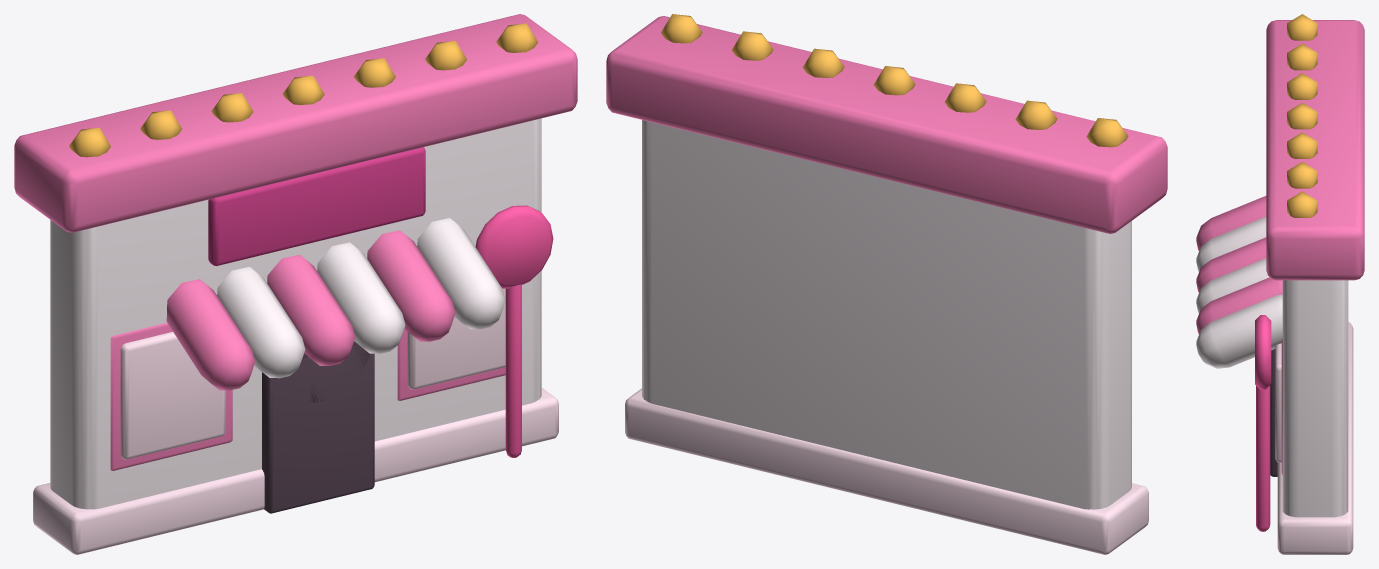
Rendered from facade_candyarmory.obj.
3 renders of one model, left to right at view 1: azimuth 30°, elevation 25°; view 2: azimuth 150°, elevation 25°; view 3: azimuth 270°, elevation 25°, orthographic. The views are drawn at different scales.
Parts seen in each view (by area): view 1: Wall, Roof, AwningA, Trim, AwningB, Door, Windows, Sign, Topper, TopperB, Frames; view 2: Wall, Roof, Trim, TopperB; view 3: Roof, Wall, AwningB, AwningA, TopperB, Trim, Topper, Windows, Door, Frames.
Boxes of the visible parts, x1,y1,x2,y2 form: Wall: [50, 118, 541, 509]; Roof: [14, 14, 577, 232]; AwningA: [166, 230, 455, 390]; Trim: [33, 388, 558, 554]; AwningB: [217, 218, 505, 378]; Door: [262, 341, 374, 513]; Windows: [120, 288, 505, 459]; Sign: [208, 147, 425, 266]; Topper: [475, 205, 553, 457]; TopperB: [69, 23, 538, 157]; Frames: [110, 323, 505, 470]; Wall: [642, 120, 1131, 509]; Roof: [606, 16, 1167, 233]; Trim: [625, 388, 1148, 554]; TopperB: [661, 14, 1128, 147]; Roof: [1266, 20, 1364, 280]; Wall: [1282, 280, 1348, 517]; AwningB: [1196, 216, 1282, 368]; AwningA: [1196, 196, 1282, 333]; TopperB: [1287, 14, 1317, 217]; Trim: [1277, 322, 1353, 554]; Topper: [1255, 315, 1271, 531]; Windows: [1275, 343, 1281, 462]; Door: [1270, 349, 1277, 476]; Frames: [1281, 338, 1282, 474].
Bounding box in the file's own units: 15.4 × 11.77 × 5.14.
